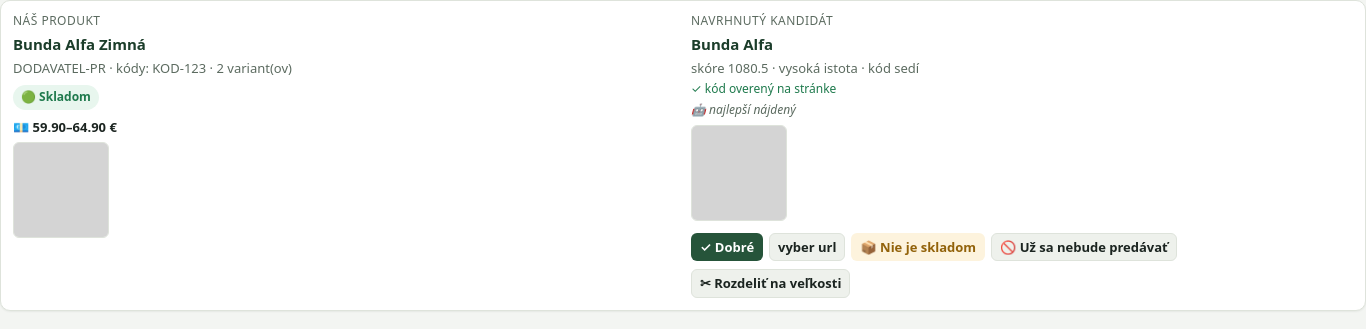
Scenario: klik na '✂ Rozdeliť na veľkosti' NAHRADÍ celú pravú stranu split editorom (kandidát/akcie zmiznú), načíta veľkosti
Click the button with test id "pairing-review-split-PR-1" at (771, 284), box x1=691 y1=269 x2=850 y2=298
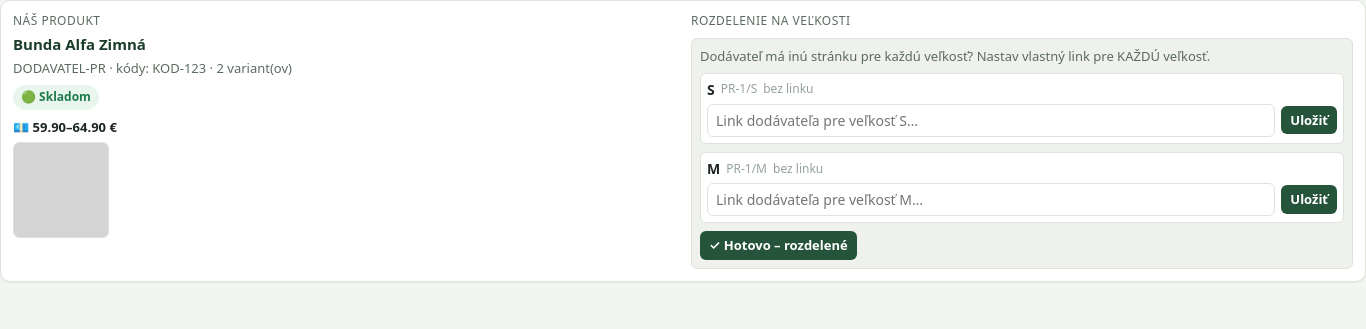
Now the element with test id "pairing-review-split-panel-PR-1" is shown, box x1=691 y1=38 x2=1353 y2=269
Now the element with test id "pairing-review-candidate-PR-1" is gone
Now the button with test id "pairing-review-good-PR-1" is gone
